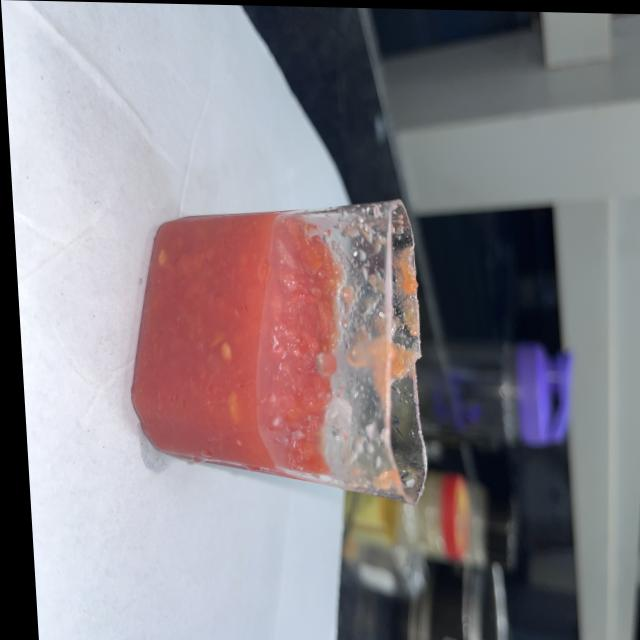blended_tomatoes_pepper: (118, 209, 345, 482)
